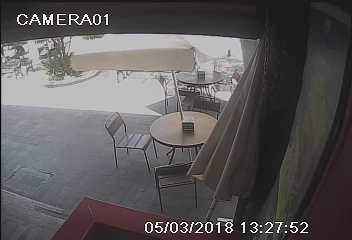libre: (105, 104, 224, 195), (157, 60, 234, 113)
